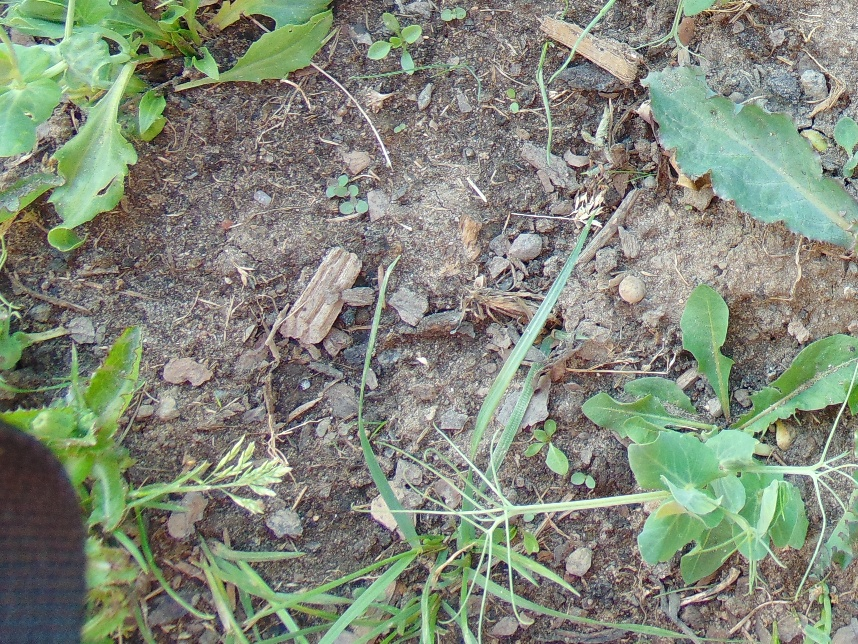crop: (430, 433, 849, 574), (1, 1, 112, 159), (646, 1, 714, 52), (1, 288, 19, 369)
weed: (579, 279, 858, 431), (640, 65, 858, 255), (90, 474, 280, 644), (1, 329, 141, 530), (128, 1, 334, 100), (328, 508, 500, 619), (76, 70, 192, 169), (1, 157, 116, 256), (366, 12, 425, 76), (525, 418, 568, 474), (833, 115, 858, 179), (326, 173, 365, 212)
